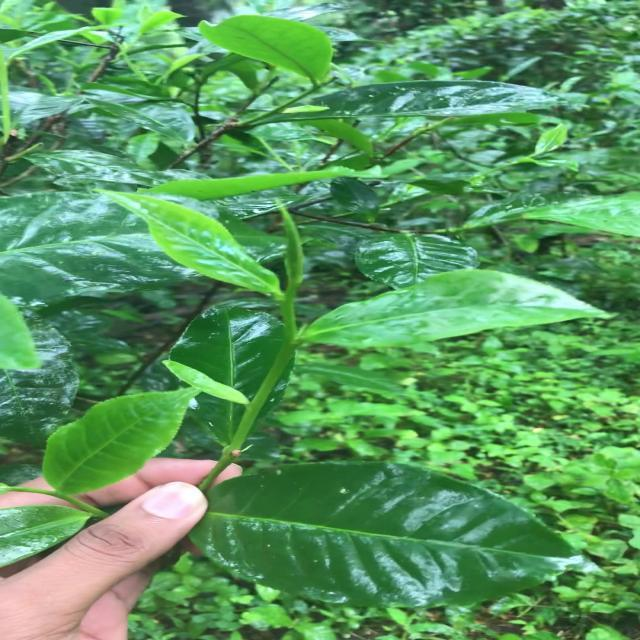Stem: (281, 300, 292, 314)
